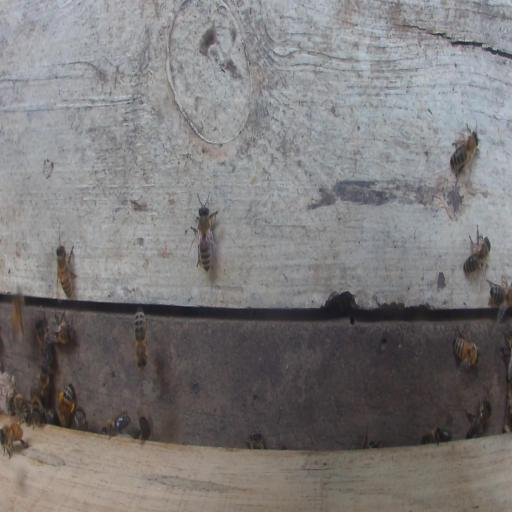bee: (191, 191, 219, 274), (463, 226, 491, 285), (450, 122, 479, 177), (452, 325, 481, 368), (55, 241, 76, 299), (465, 396, 492, 438), (487, 277, 511, 320), (0, 421, 27, 458), (35, 319, 54, 367), (47, 311, 73, 345), (134, 309, 148, 371), (11, 293, 25, 345), (101, 412, 131, 436), (59, 383, 75, 427), (499, 330, 512, 380), (422, 426, 453, 446), (11, 393, 30, 422), (30, 395, 46, 429), (37, 363, 51, 399), (137, 414, 153, 442), (245, 431, 265, 449), (74, 409, 86, 430)
